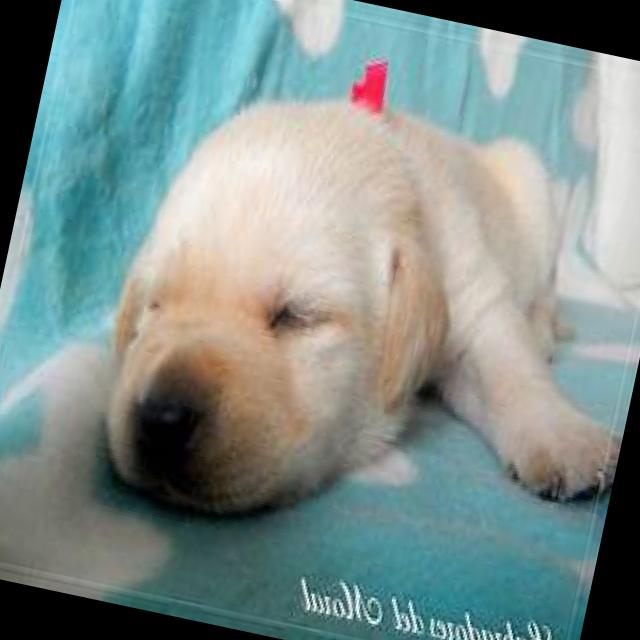animal: (80, 0, 640, 602)
